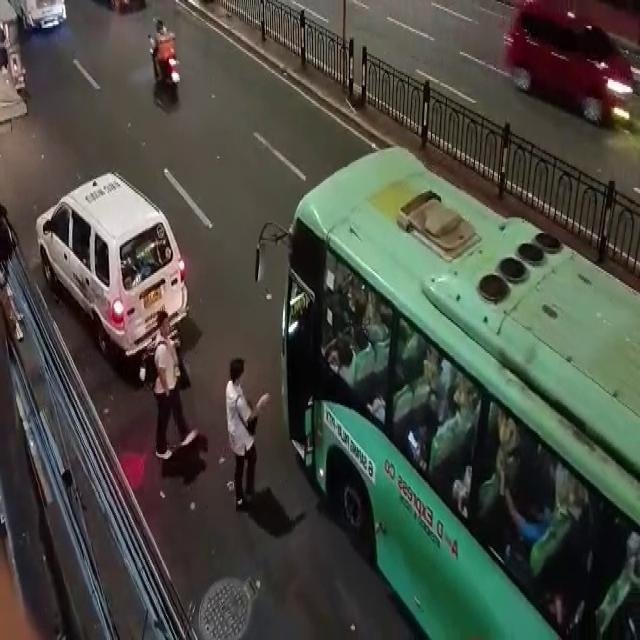bus: (0, 130, 400, 638)
car: (25, 159, 193, 359), (493, 0, 639, 132)
motorcycle: (130, 12, 193, 118)
